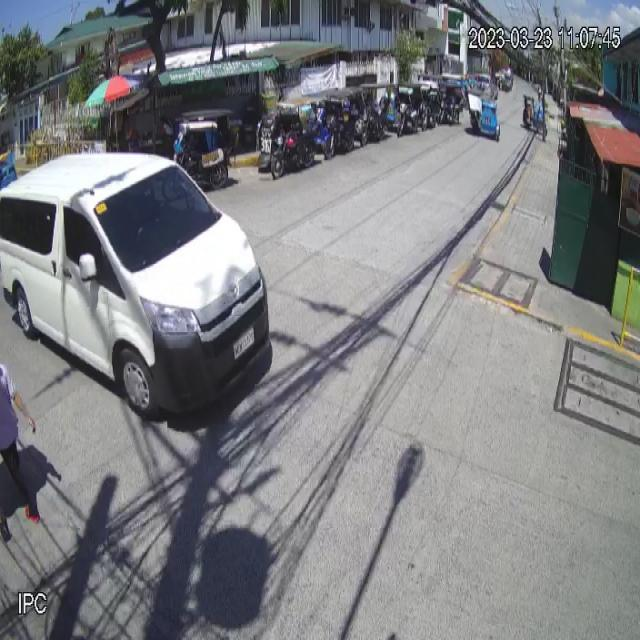Tricycle: (172, 109, 236, 191)
Van: (0, 153, 273, 425)
